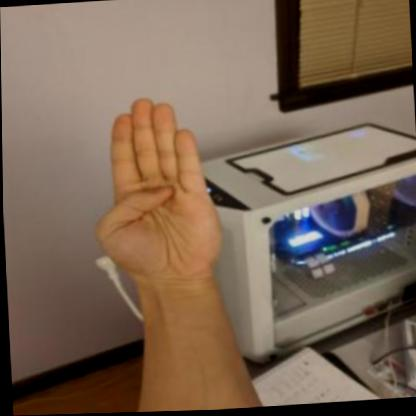B: (68, 85, 234, 306)
